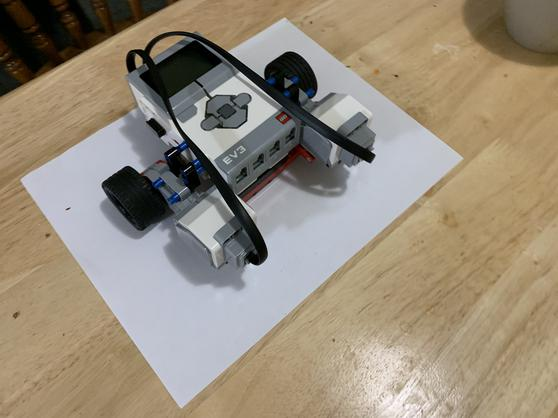robot: (78, 28, 381, 279)
